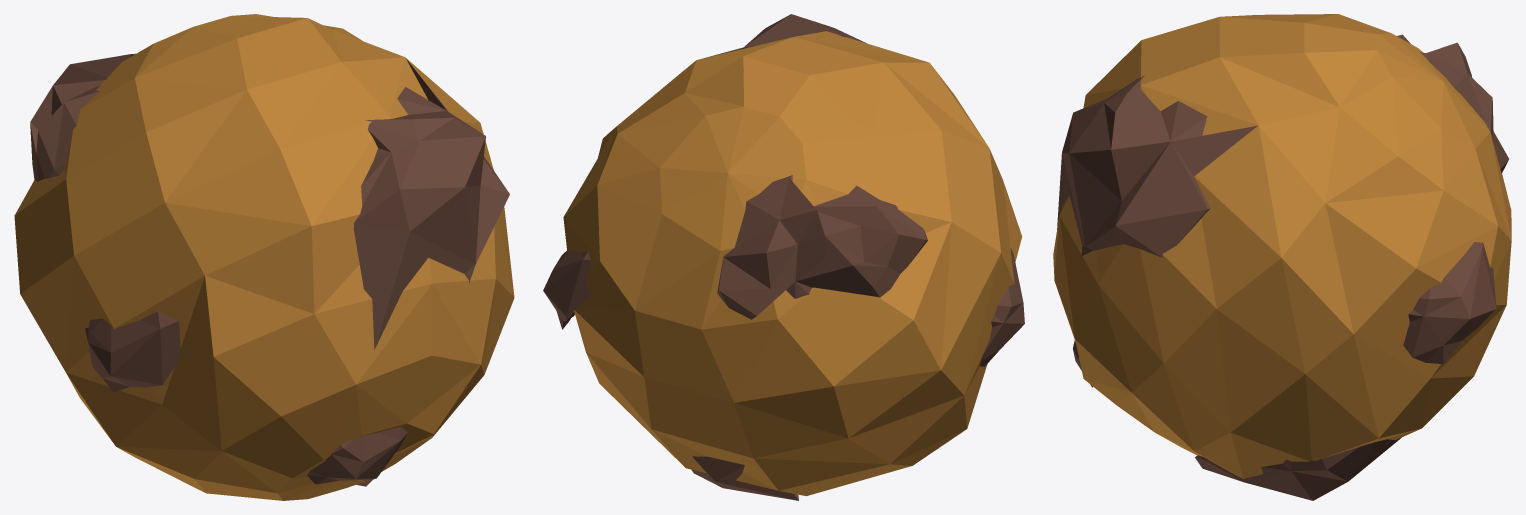
Rendered from Mercury.glb.
3 views of the same model, side by side, from view 1: azimuth 30°, elevation 25°; view 2: azimuth 150°, elevation 25°; view 3: azimuth 270°, elevation 25° (orthographic). The views are drawn at different scales.
Visible parts, largest first — view 1: node_MeshObject175458112-PolyPaper19.001; view 2: node_MeshObject175458112-PolyPaper19.001; view 3: node_MeshObject175458112-PolyPaper19.001.
Part boxes in pixels (box(x1,y1,x2,y2)): node_MeshObject175458112-PolyPaper19.001: box(14, 14, 514, 500); node_MeshObject175458112-PolyPaper19.001: box(543, 14, 1024, 500); node_MeshObject175458112-PolyPaper19.001: box(1053, 14, 1511, 500).
Size of the model in its own units: 0.1634 by 0.1729 by 0.1632.
